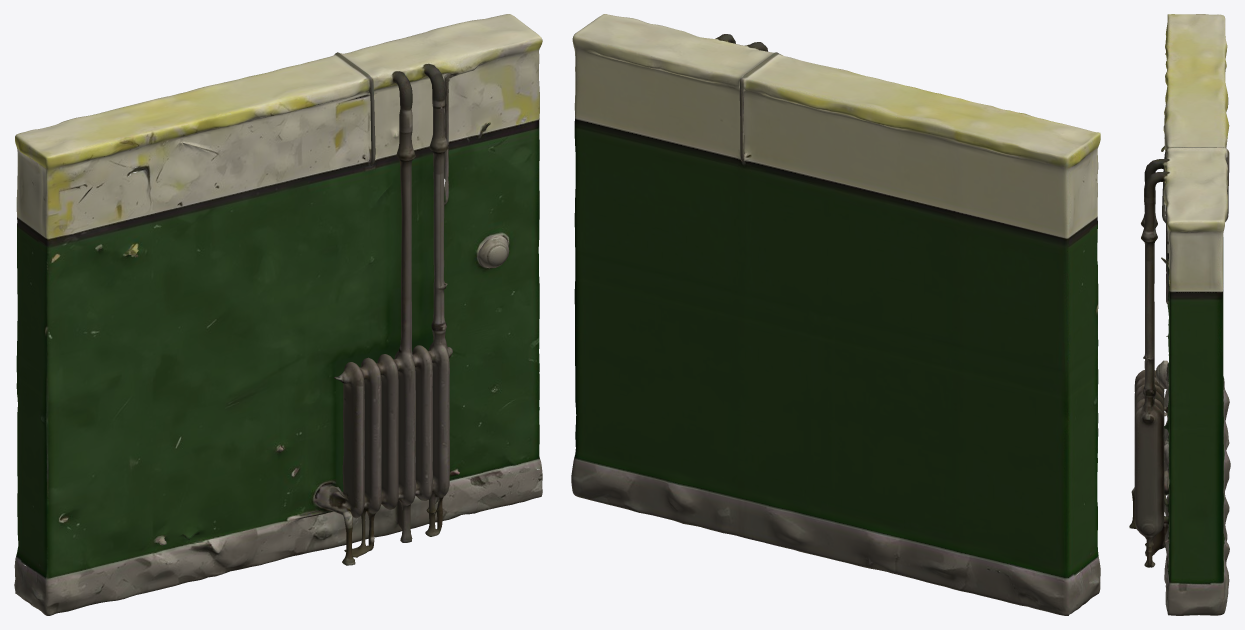
File: g67_podezd_wall.glb
The picture shows the model from 3 angles, left to right: view 1: azimuth 30°, elevation 25°; view 2: azimuth 150°, elevation 25°; view 3: azimuth 270°, elevation 25°; orthographic projection. The views are drawn at different scales.
Visible parts, largest first — view 1: tripo_node_c2b6af6f; view 2: tripo_node_c2b6af6f; view 3: tripo_node_c2b6af6f.
Boxes of the visible parts, left/top/right/bottom form: tripo_node_c2b6af6f: left=14, top=14, right=542, bottom=615; tripo_node_c2b6af6f: left=571, top=14, right=1100, bottom=615; tripo_node_c2b6af6f: left=1129, top=14, right=1230, bottom=615.
Size of the model in its own units: 98.34 by 86.64 by 20.03.
1 material, 1 textured.
